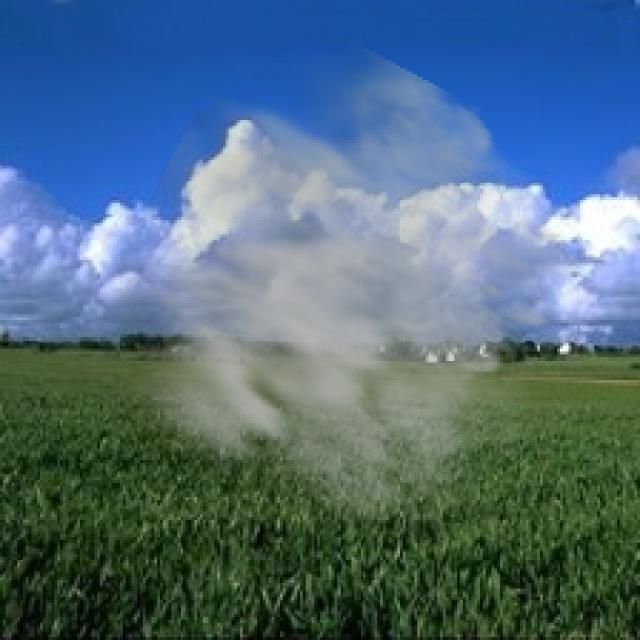smoke: (60, 31, 589, 548)
